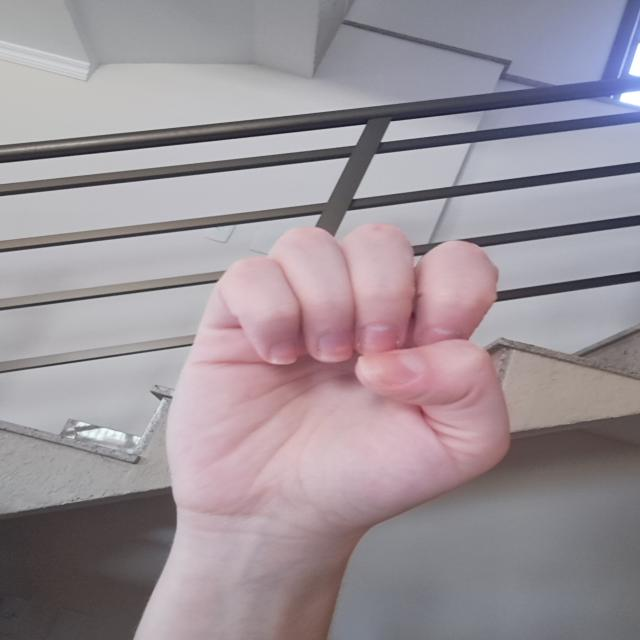E: (154, 216, 544, 551)
